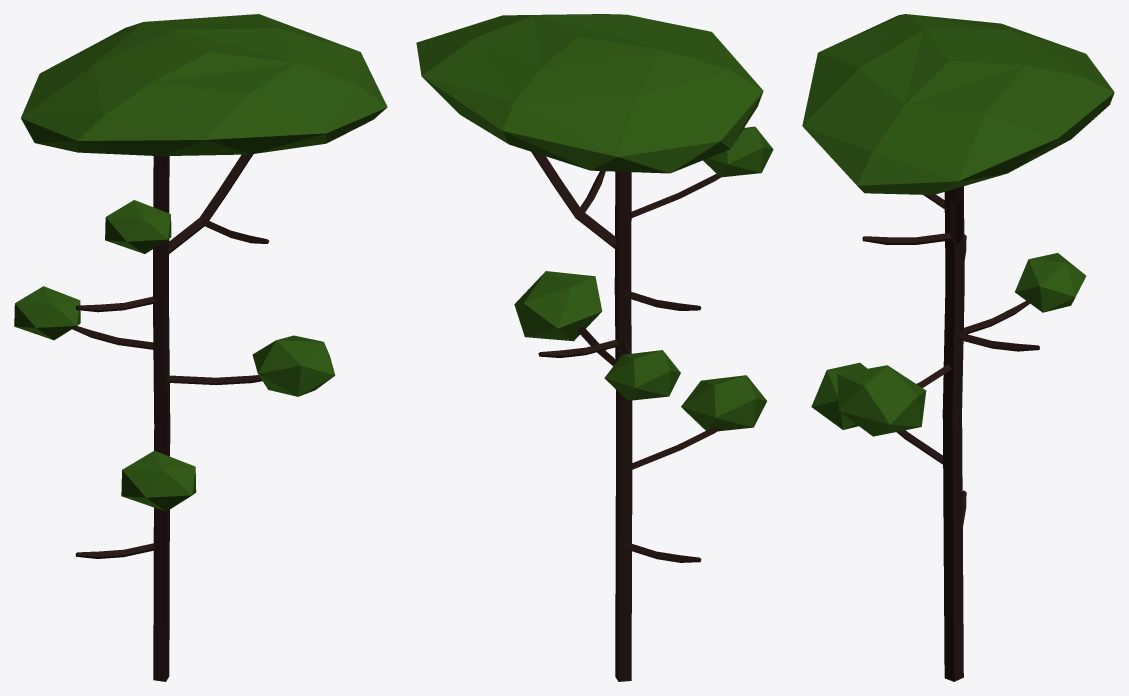
Rendered from SM_tree_d_03.FBX.
3 renders of one model, left to right at view 1: azimuth 30°, elevation 25°; view 2: azimuth 150°, elevation 25°; view 3: azimuth 270°, elevation 25°, orthographic. The views are drawn at different scales.
Visible parts, largest first — view 1: Object052; view 2: Object052; view 3: Object052.
Boxes of the visible parts, box(x1,y1,x2,y2) form: Object052: box(14, 14, 387, 681); Object052: box(416, 14, 773, 681); Object052: box(802, 14, 1114, 681).
Size of the model in its own units: 623 by 1150 by 508.
